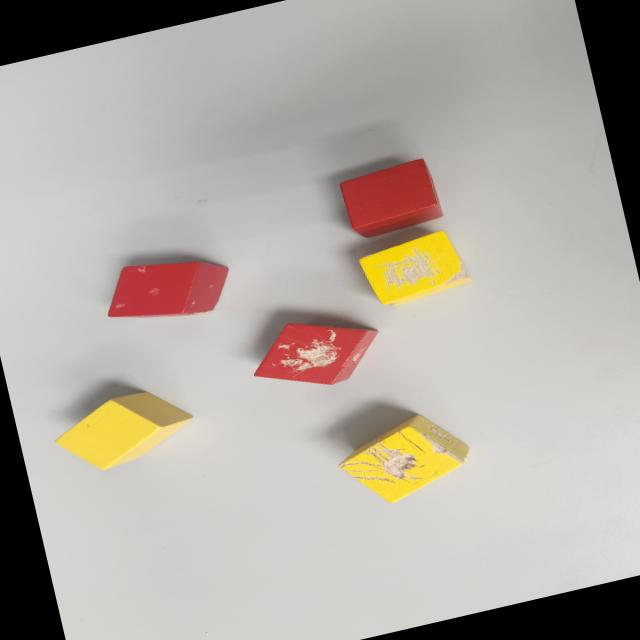broken: (332, 402, 480, 514), (244, 303, 390, 403), (97, 242, 237, 336), (354, 225, 474, 311)
red: (337, 155, 445, 241)
yellow: (47, 380, 200, 480)
